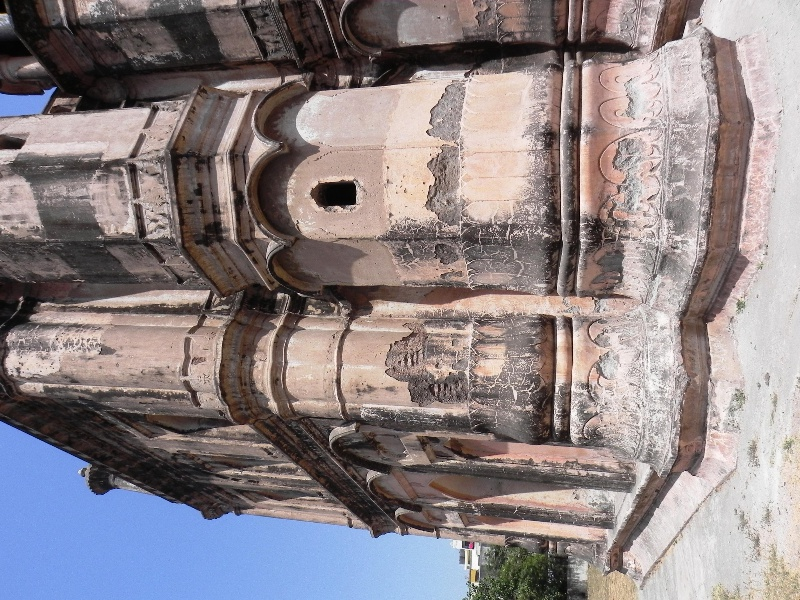Exposed Bricks: (427, 375, 463, 396), (395, 346, 425, 369)
Spalling: (426, 76, 474, 283), (619, 77, 645, 122)
